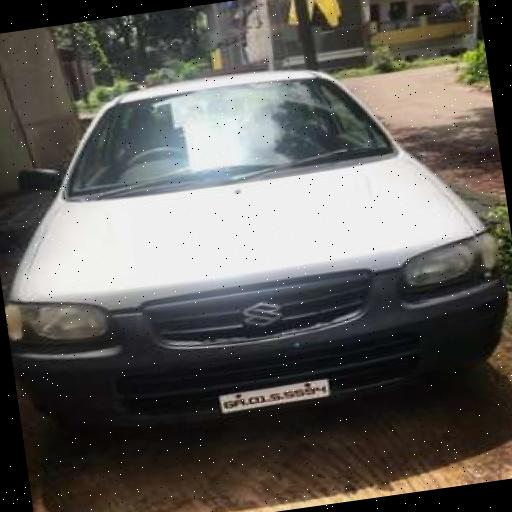license_plate`: (216, 376, 326, 410)
